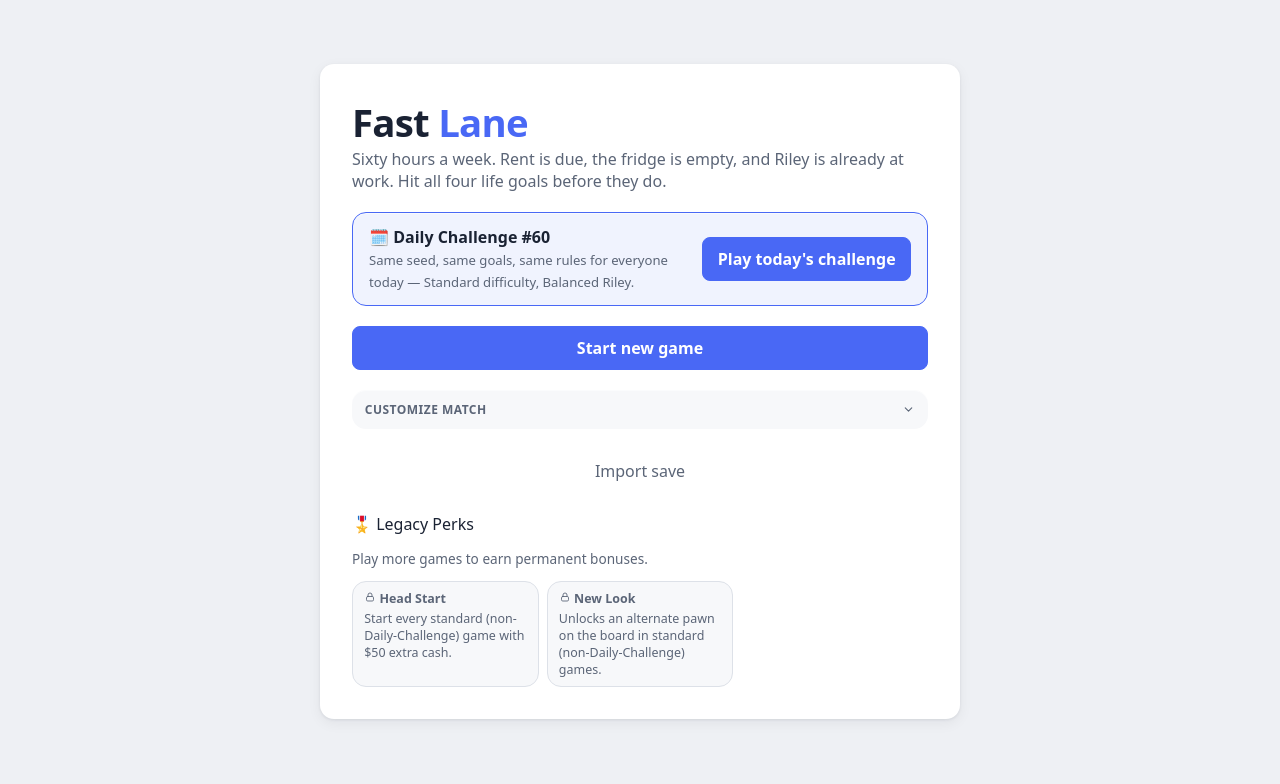
it: App › dismisses the job-switch nudge independently of the unrelated food hint
Step 1. Click the button "Start new game" → (640,348), box [352,326,928,370]
(page scrolled)
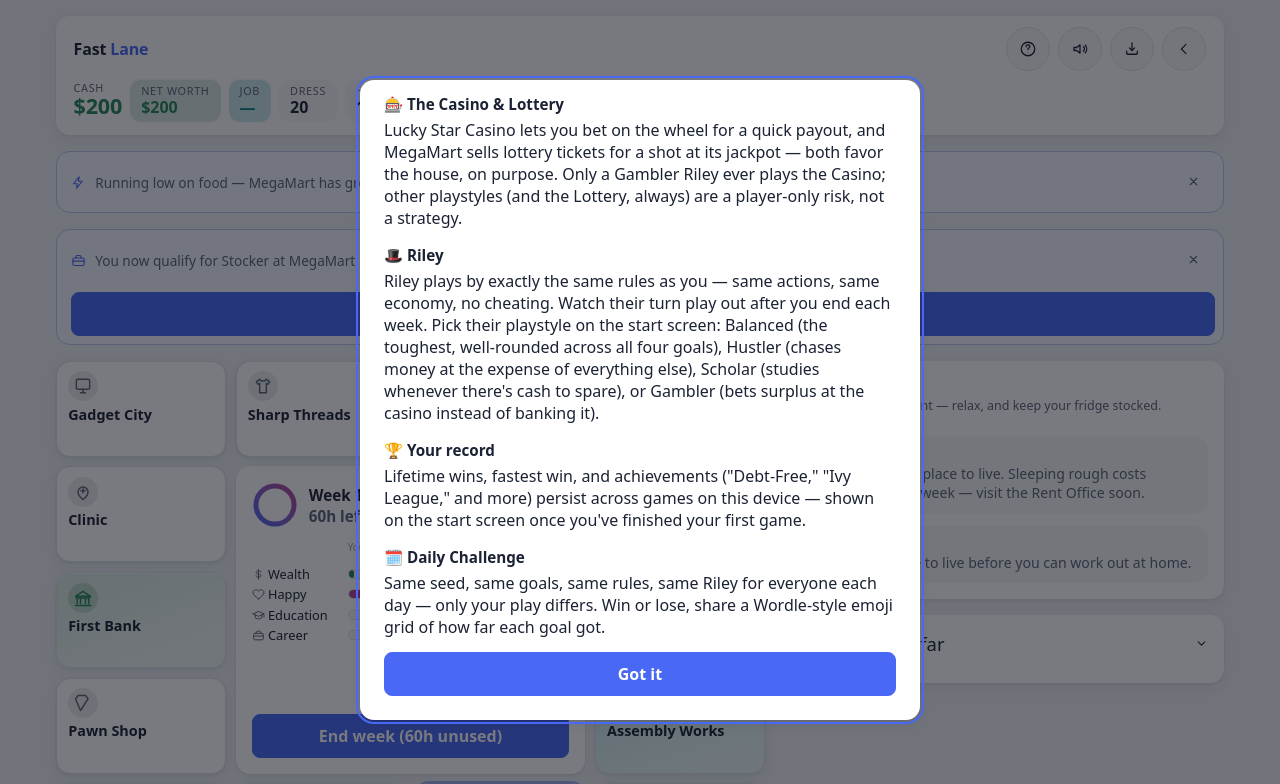
Step 2. Click the button "Got it" → (640,674), box [384,652,896,696]
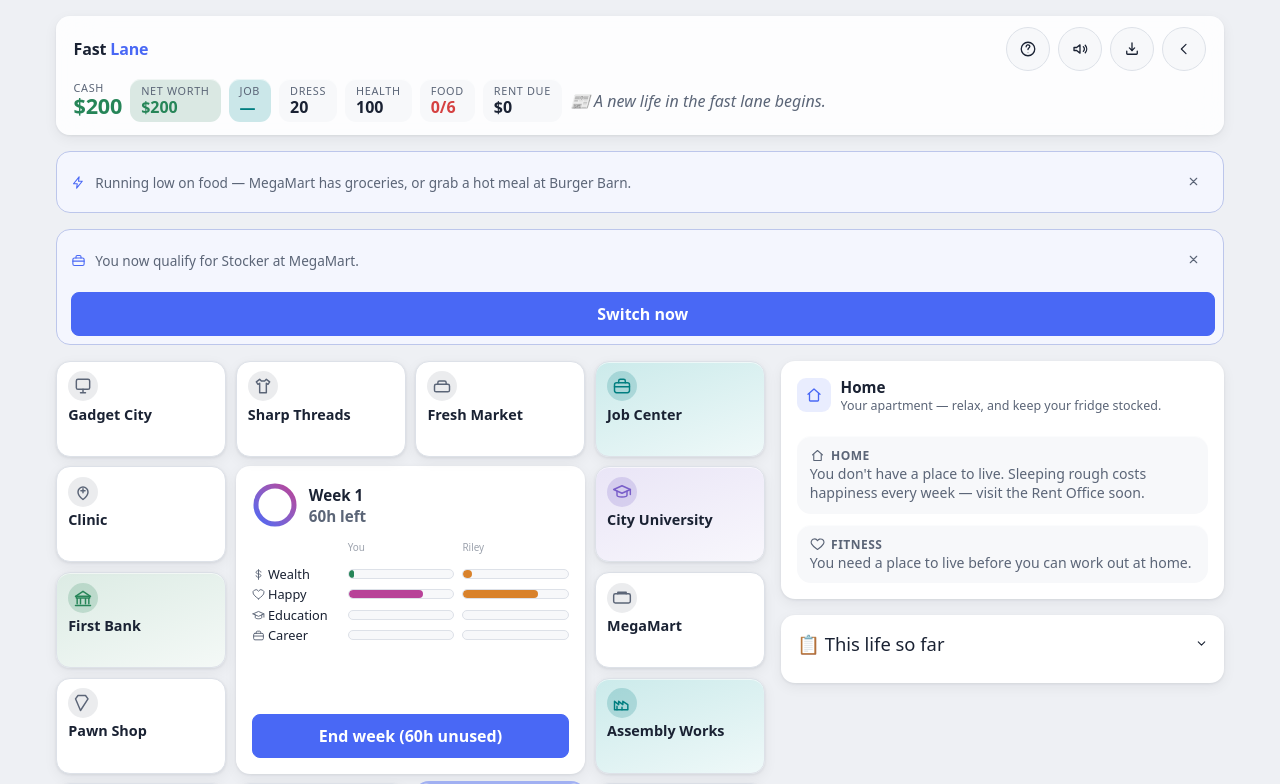
Step 3. Click the button named "Dismiss job suggestion" → (1193,260), box [1171,238,1215,282]
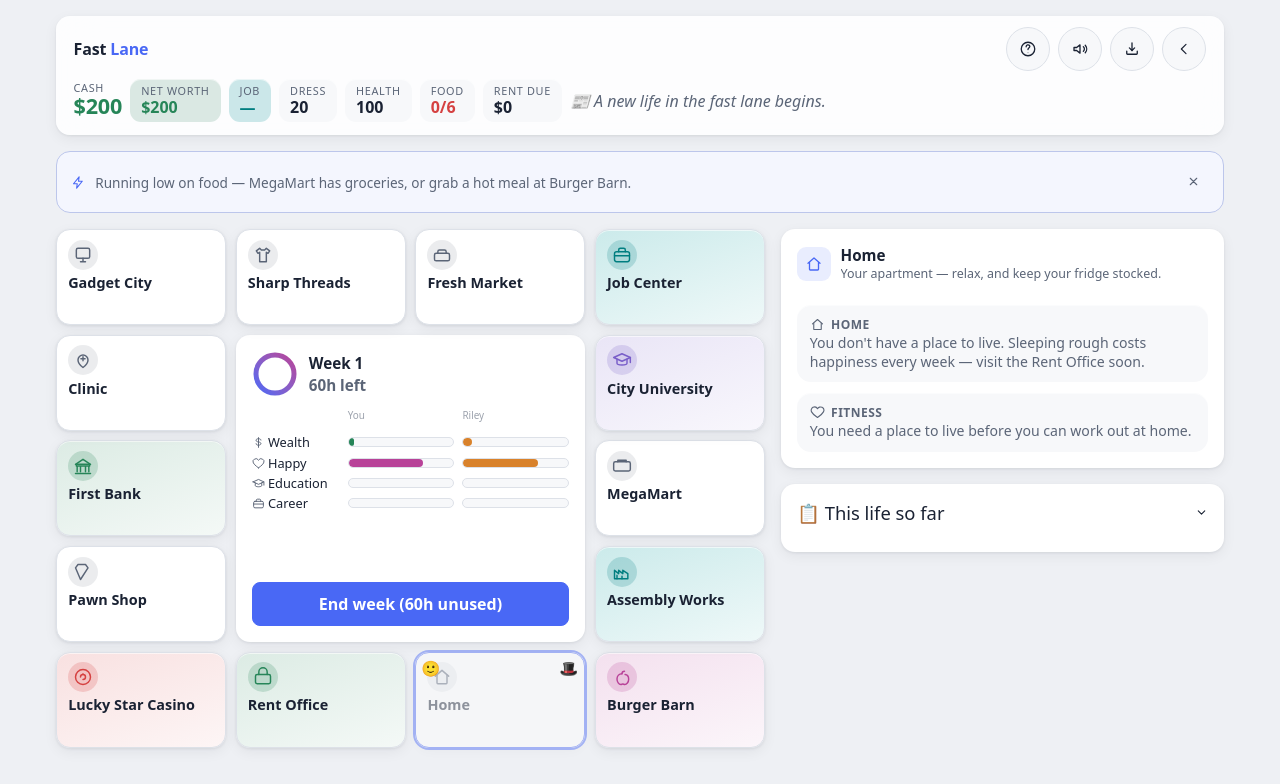
Now the text "Running low on food" is shown, box [95,173,631,192]
Now the text "You now qualify for Stocker at MegaMart" is gone
